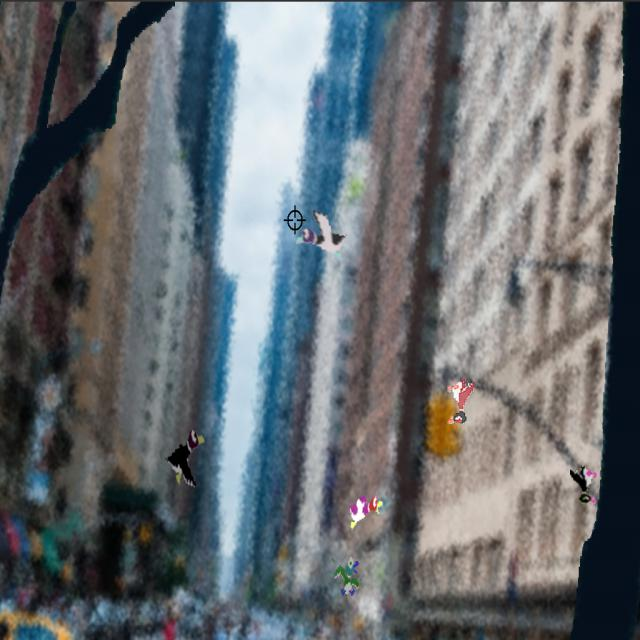duck: (296, 210, 354, 268), (165, 420, 207, 498), (343, 488, 389, 530)
falling_duck: (442, 367, 476, 434), (565, 452, 602, 510), (329, 551, 364, 598)
